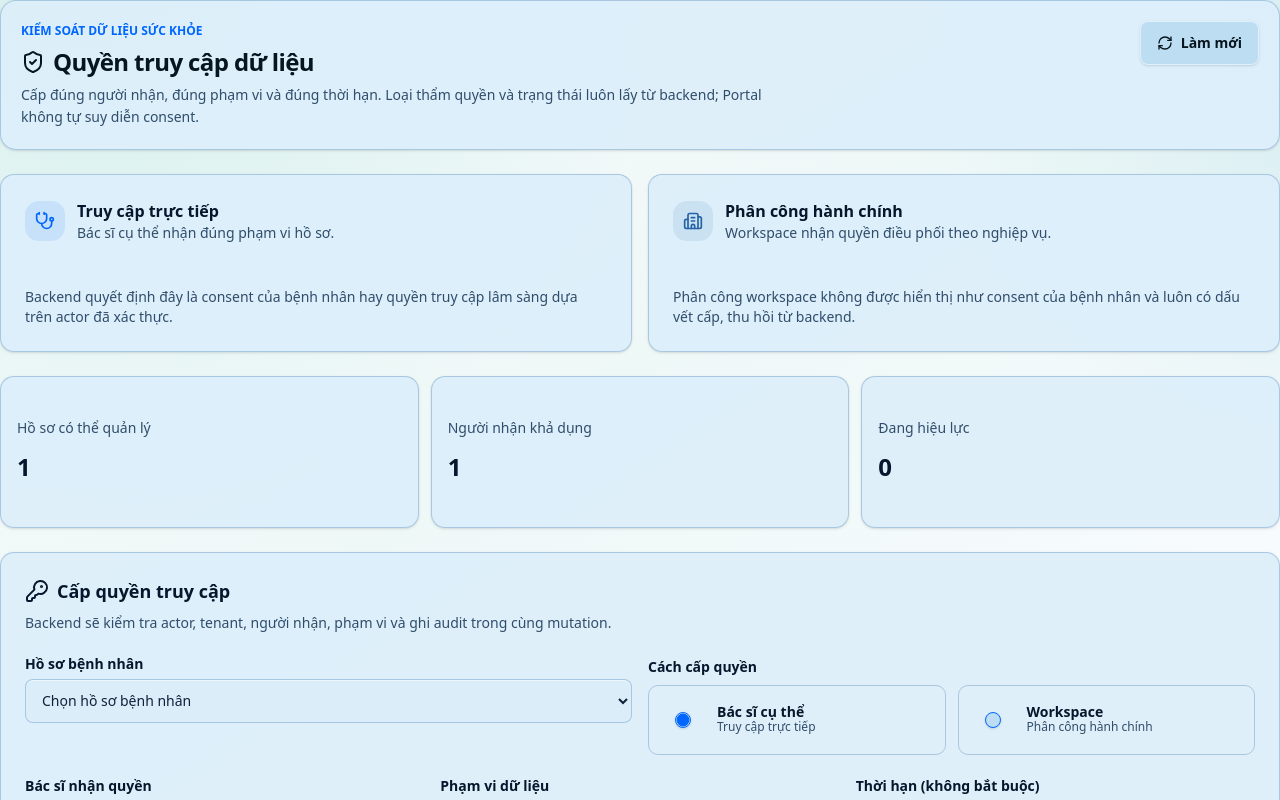
Test case: Portal consent/data-access page › keeps cached patient data visibly stale after refresh failure
Click the button "Làm mới".
click(1199, 43)  # box [1140,21,1259,65]
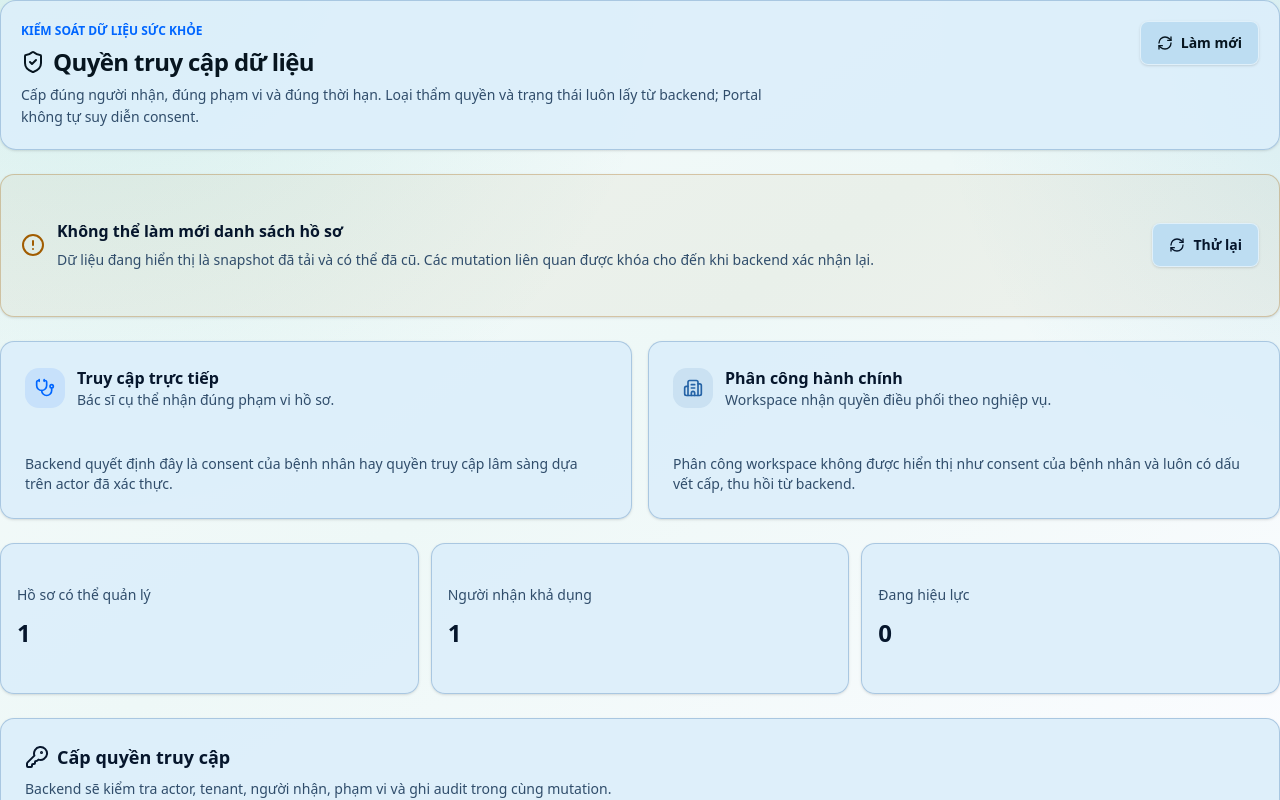
Check: the text "Không thể làm mới danh sách hồ sơ" is shown, box [57,220,343,242]
